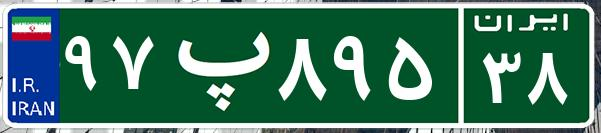3: (475, 38, 525, 113)
5: (385, 28, 445, 110)
7: (110, 28, 158, 105)
8: (273, 28, 330, 110), (525, 38, 570, 115)
9: (330, 28, 385, 110), (57, 26, 110, 107)
پ: (158, 15, 273, 115)
